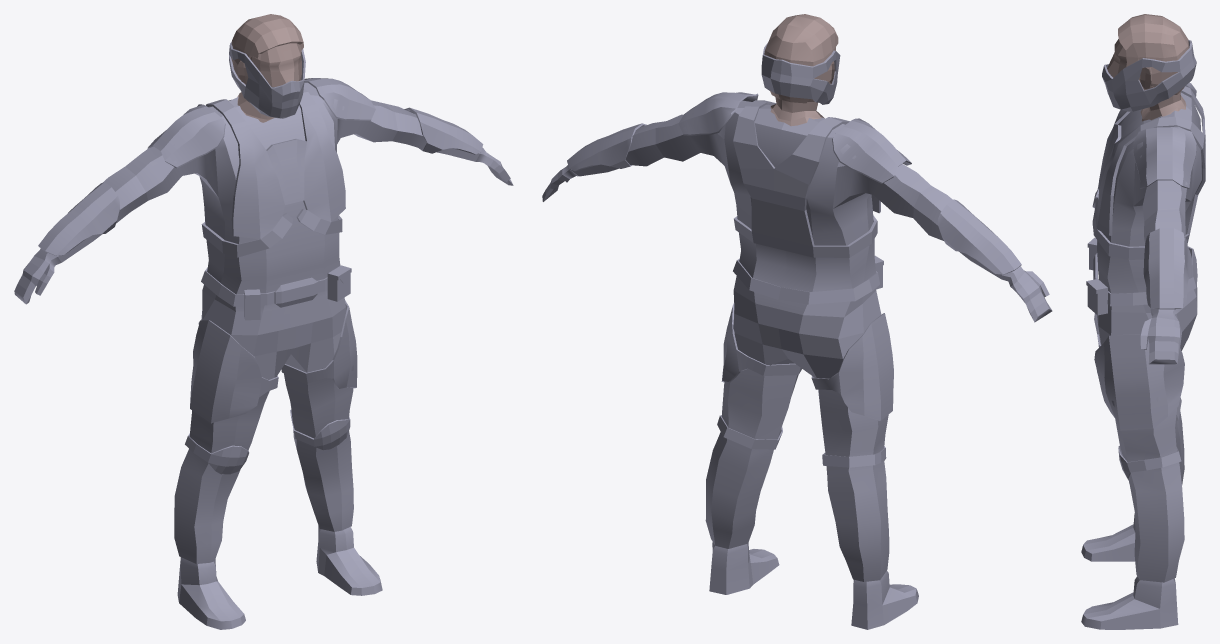
Rendered from Nikolas.fbx.
3 views of the same model, side by side, from view 1: azimuth 30°, elevation 25°; view 2: azimuth 150°, elevation 25°; view 3: azimuth 270°, elevation 25° (orthographic). The views are drawn at different scales.
Visible parts, largest first — view 1: Cuerpo, Pechera, Zapatos, CubrePierna_IZR, CabezaSI, Brasera_IZQ, Hombrera_IZQ, CubreBoca, CubrePierna_DER, Hombrera_DER, Brasera_DER, Rodillera_IZQ (+4 smaller); view 2: Cuerpo, Pechera, Zapatos, CubrePierna_IZR, CabezaSI, Brasera_IZQ, Hombrera_IZQ, CubreBoca, Cinturon, Hombrera_DER, Brasera_DER, CubrePierna_DER (+2 smaller); view 3: Cuerpo, CubrePierna_DER, Zapatos, Pechera, CabezaSI, Brasera_DER, Hombrera_DER, CubreBoca, Cinturon, Rodillera_DER, BolsilloG, BolsilloC.
Boxes of the visible parts, x1,y1,x2,y2 form: Cuerpo: (14, 82, 513, 563); Pechera: (201, 88, 345, 257); Zapatos: (177, 525, 382, 629); CubrePierna_IZR: (190, 320, 278, 423); CabezaSI: (231, 14, 303, 122); Brasera_IZQ: (38, 182, 119, 255); Hombrera_IZQ: (147, 104, 225, 168); CubreBoca: (229, 41, 305, 118); CubrePierna_DER: (281, 300, 357, 388); Hombrera_DER: (304, 78, 375, 120); Brasera_DER: (404, 107, 483, 154); Rodillera_IZQ: (185, 433, 249, 474); Cuerpo: (542, 100, 1052, 581); Pechera: (733, 100, 880, 257); Zapatos: (709, 542, 918, 629); CubrePierna_IZR: (811, 313, 893, 420); CabezaSI: (764, 14, 838, 126); Brasera_IZQ: (938, 199, 1021, 274); Hombrera_IZQ: (832, 118, 911, 183); CubreBoca: (761, 43, 840, 104); Cinturon: (733, 259, 879, 304); Hombrera_DER: (678, 92, 758, 135); Brasera_DER: (567, 123, 646, 171); CubrePierna_DER: (721, 303, 801, 382); Cuerpo: (1097, 92, 1201, 582); CubrePierna_DER: (1094, 334, 1184, 430); Zapatos: (1081, 513, 1178, 629); Pechera: (1092, 86, 1205, 259); CabezaSI: (1107, 14, 1189, 121); Brasera_DER: (1143, 228, 1188, 309); Hombrera_DER: (1133, 127, 1196, 188); CubreBoca: (1102, 40, 1196, 111); Cinturon: (1096, 246, 1197, 306); Rodillera_DER: (1118, 445, 1181, 480); BolsilloG: (1086, 279, 1107, 315); BolsilloC: (1087, 237, 1098, 270).
Bounding box in the file's own units: 1.64 × 1.82 × 0.3618.
